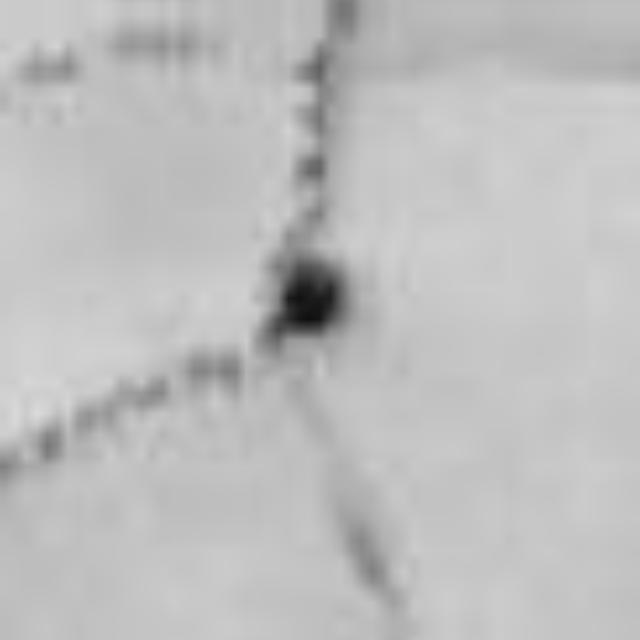good_void: (270, 258, 345, 341)
